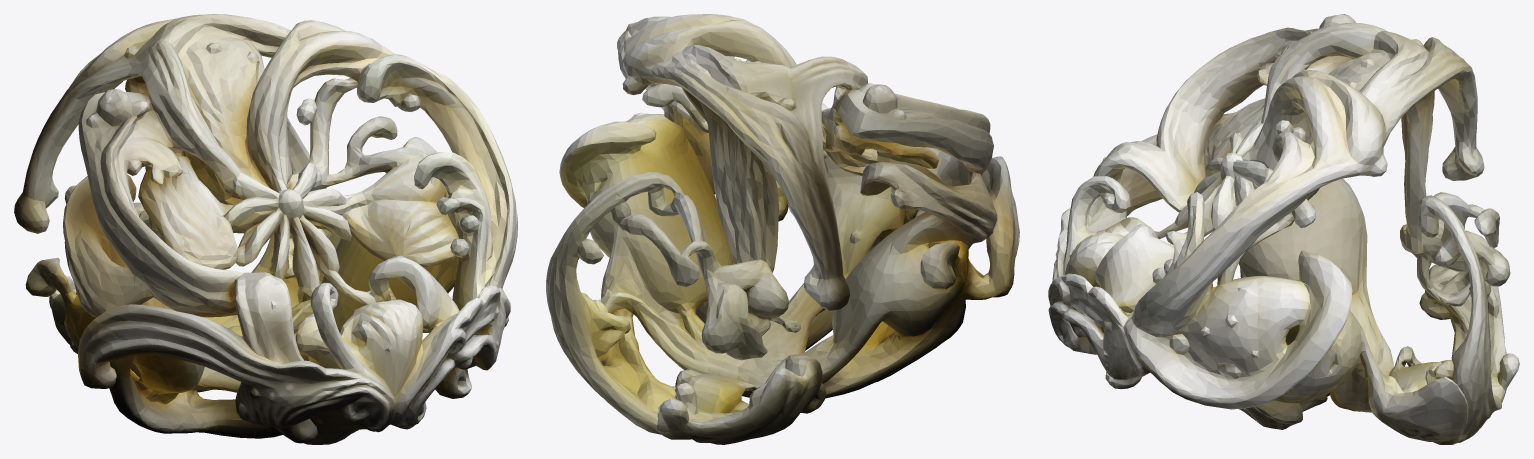
File: porcelain-ornament-3d.jpeg.glb
3 renders of one model, left to right at view 1: azimuth 30°, elevation 25°; view 2: azimuth 150°, elevation 25°; view 3: azimuth 270°, elevation 25°, orthographic. The views are drawn at different scales.
Parts seen in each view (by area): view 1: world; view 2: world; view 3: world.
Boxes of the visible parts, x1,y1,x2,y2 form: world: (14,14,517,444); world: (546,14,1019,444); world: (1048,14,1519,444).
Size of the model in its own units: 1 by 0.8397 by 0.99.
Materials: 1 (1 with a texture image).
